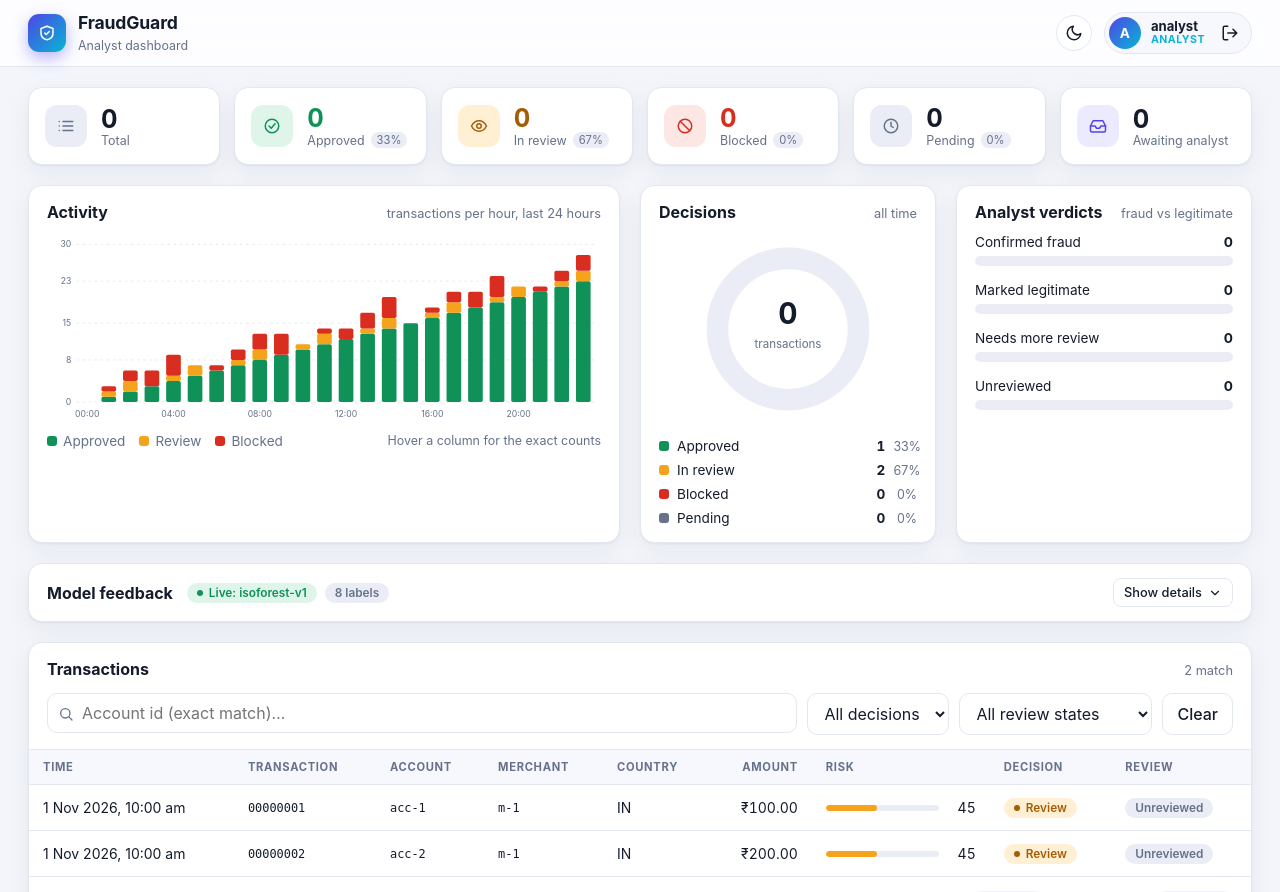
login and session handling › logs out
The width and height of the screenshot is (1280, 892).
Click the button named "Log out".
click(1230, 33)  # box [1215, 18, 1245, 48]
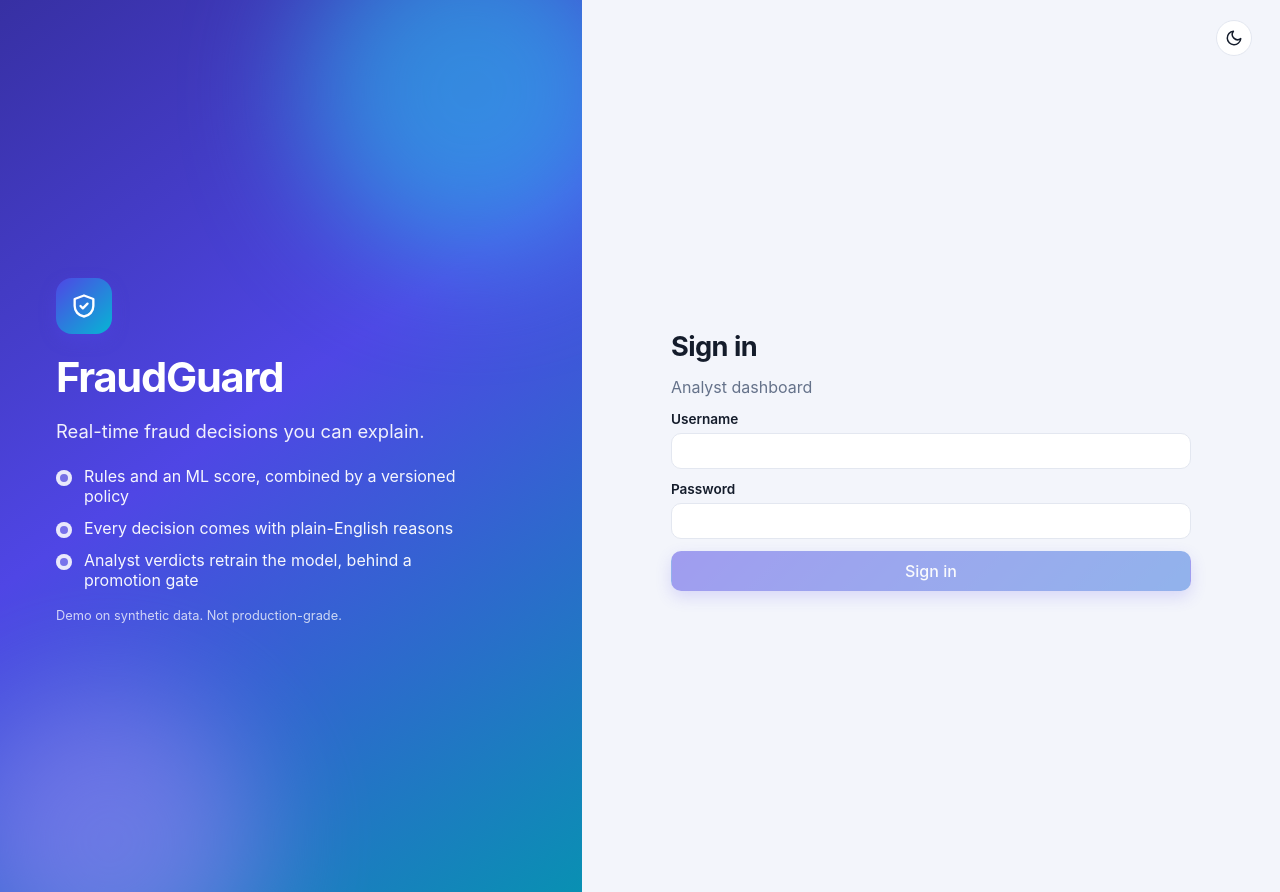
Expected: the button "Sign in" is shown, [671, 550, 1191, 590]
